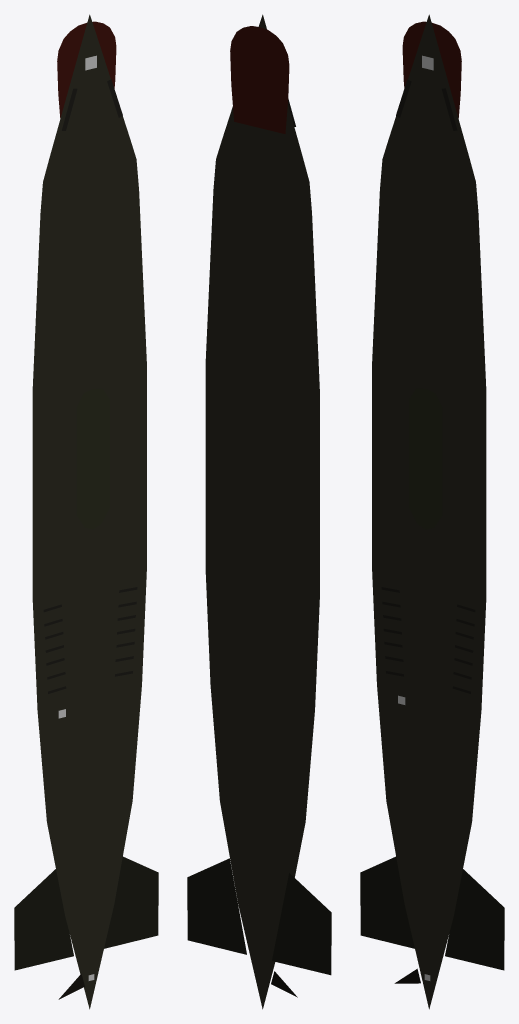
Rendered from kilo.obj.
3 views of the same model, side by side, from view 1: azimuth 30°, elevation 25°; view 2: azimuth 150°, elevation 25°; view 3: azimuth 330°, elevation 25° (orthographic).
Visible parts, largest first — view 1: main_hull_Plane, tower_Plane.005, tail_elevators_Plane.001, tail_elevator_right_Plane.003, bow_bulb_Plane.026; view 2: main_hull_Plane, bow_bulb_Plane.026, tail_elevator_right_Plane.003, tail_elevators_Plane.001; view 3: main_hull_Plane, tower_Plane.005, tail_elevator_right_Plane.003, tail_elevators_Plane.001, bow_bulb_Plane.026.
Part boxes in pixels (box(x1,y1,x2,y2)): main_hull_Plane: box(32, 14, 146, 1009); tower_Plane.005: box(76, 388, 109, 529); tail_elevators_Plane.001: box(14, 869, 73, 970); tail_elevator_right_Plane.003: box(104, 856, 158, 948); bow_bulb_Plane.026: box(57, 21, 116, 118); main_hull_Plane: box(205, 14, 319, 1009); bow_bulb_Plane.026: box(230, 26, 289, 133); tail_elevator_right_Plane.003: box(187, 858, 246, 954); tail_elevators_Plane.001: box(272, 873, 331, 975); main_hull_Plane: box(372, 14, 486, 1009); tower_Plane.005: box(409, 388, 442, 529); tail_elevator_right_Plane.003: box(445, 869, 504, 970); tail_elevators_Plane.001: box(360, 856, 414, 948); bow_bulb_Plane.026: box(402, 21, 461, 118).
Size of the model in its own units: 8.72 by 57.37 by 0.7115.
